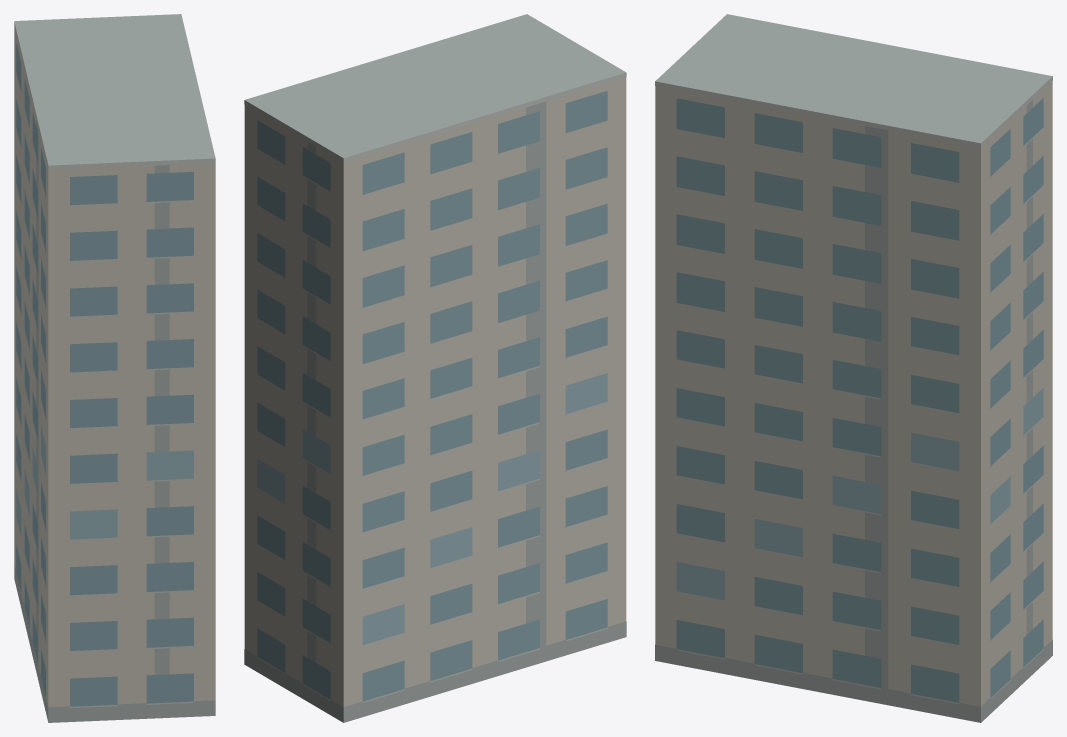
File: residential-8e44af83-b447-42b6-8ea2-24bfed8cf0a0.glb
3 renders of one model, left to right at view 1: azimuth 30°, elevation 25°; view 2: azimuth 150°, elevation 25°; view 3: azimuth 270°, elevation 25°, orthographic. The views are drawn at different scales.
Parts seen in each view (by area): view 1: residential-8e44af83-b447-42b6-8ea2-24bfed8cf0a0.tmp; view 2: residential-8e44af83-b447-42b6-8ea2-24bfed8cf0a0.tmp; view 3: residential-8e44af83-b447-42b6-8ea2-24bfed8cf0a0.tmp.
Part boxes in pixels (x1=…): residential-8e44af83-b447-42b6-8ea2-24bfed8cf0a0.tmp: x1=14, y1=14, x2=215, y2=722; residential-8e44af83-b447-42b6-8ea2-24bfed8cf0a0.tmp: x1=244, y1=14, x2=626, y2=722; residential-8e44af83-b447-42b6-8ea2-24bfed8cf0a0.tmp: x1=655, y1=14, x2=1052, y2=722.
Bounding box in the file's own units: 14.38 × 30 × 18.67.
